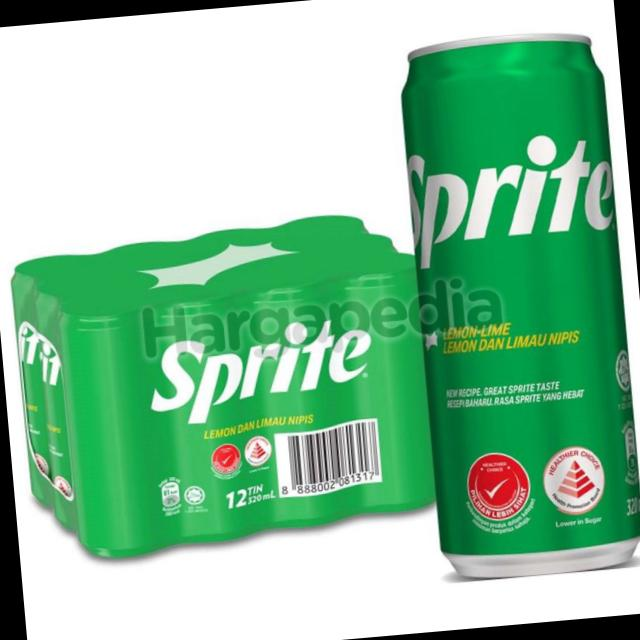sprite: (383, 24, 640, 588)
